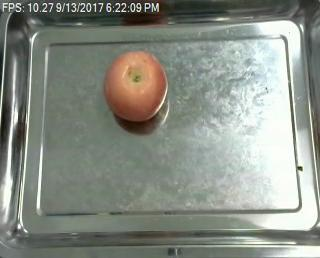apple: (104, 50, 168, 122)
